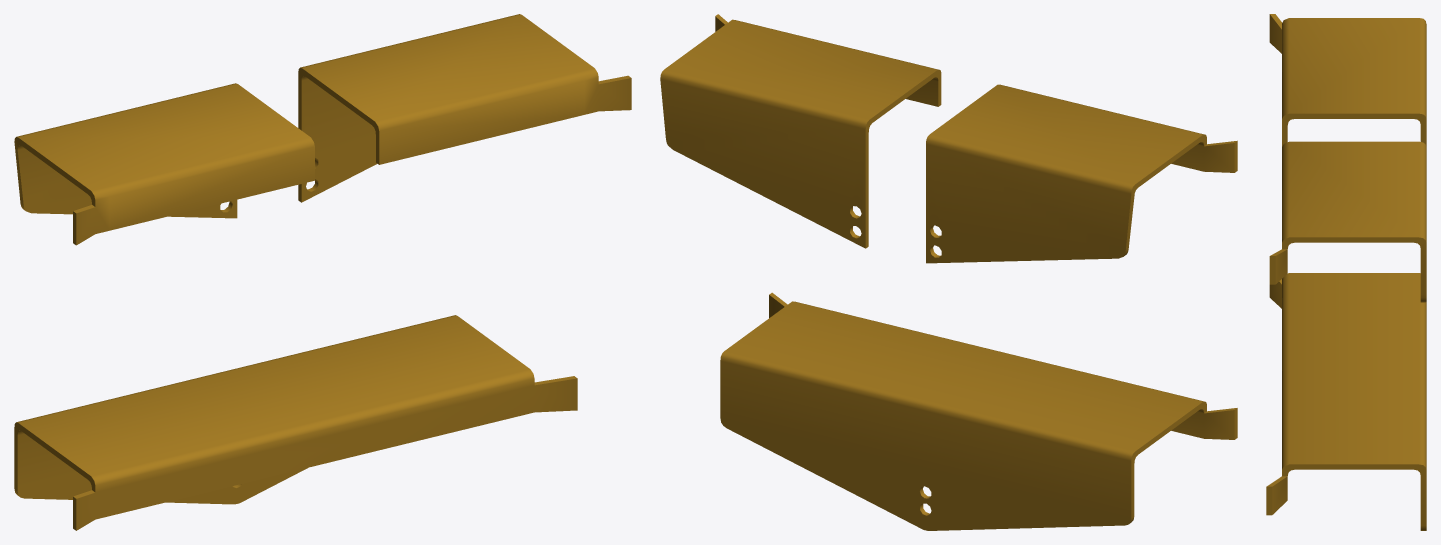
File: SM_Rungs_Half_&_Full.FBX
The picture shows the model from 3 angles, left to right: view 1: azimuth 30°, elevation 25°; view 2: azimuth 150°, elevation 25°; view 3: azimuth 270°, elevation 25°; orthographic projection. The views are drawn at different scales.
Visible parts, largest first — view 1: Rungs Full, Rungs Half 2, Rungs Half 1; view 2: Rungs Full, Rungs Half 1, Rungs Half 2; view 3: Rungs Full, Rungs Half 2, Rungs Half 1.
Part boxes in pixels (x1=…): Rungs Full: x1=14, y1=315, x2=577, y2=530; Rungs Half 2: x1=298, y1=14, x2=631, y2=202; Rungs Half 1: x1=14, y1=83, x2=314, y2=245; Rungs Full: x1=720, y1=292, x2=1237, y2=530; Rungs Half 1: x1=926, y1=84, x2=1237, y2=263; Rungs Half 2: x1=660, y1=14, x2=941, y2=248; Rungs Full: x1=1266, y1=273, x2=1426, y2=530; Rungs Half 2: x1=1269, y1=141, x2=1426, y2=302; Rungs Half 1: x1=1269, y1=14, x2=1426, y2=147.
Size of the model in its own units: 889 by 643 by 249.
